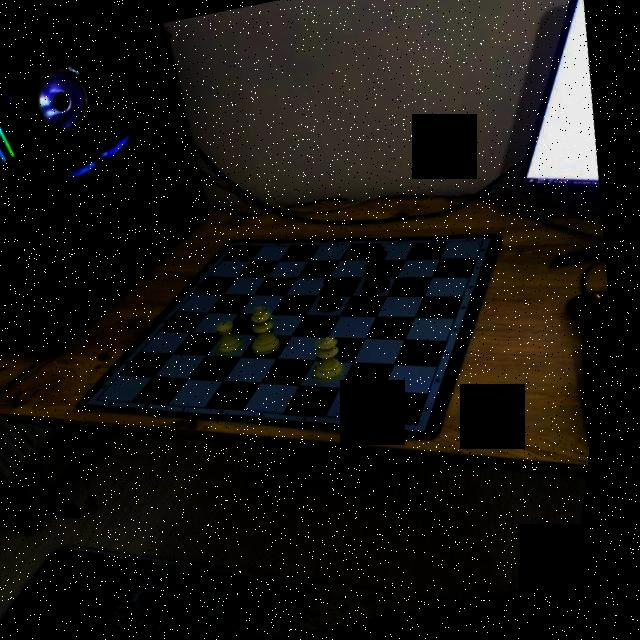chess-table-corners: (417, 418, 435, 432), (477, 236, 497, 248), (232, 240, 250, 252), (99, 394, 115, 405)
